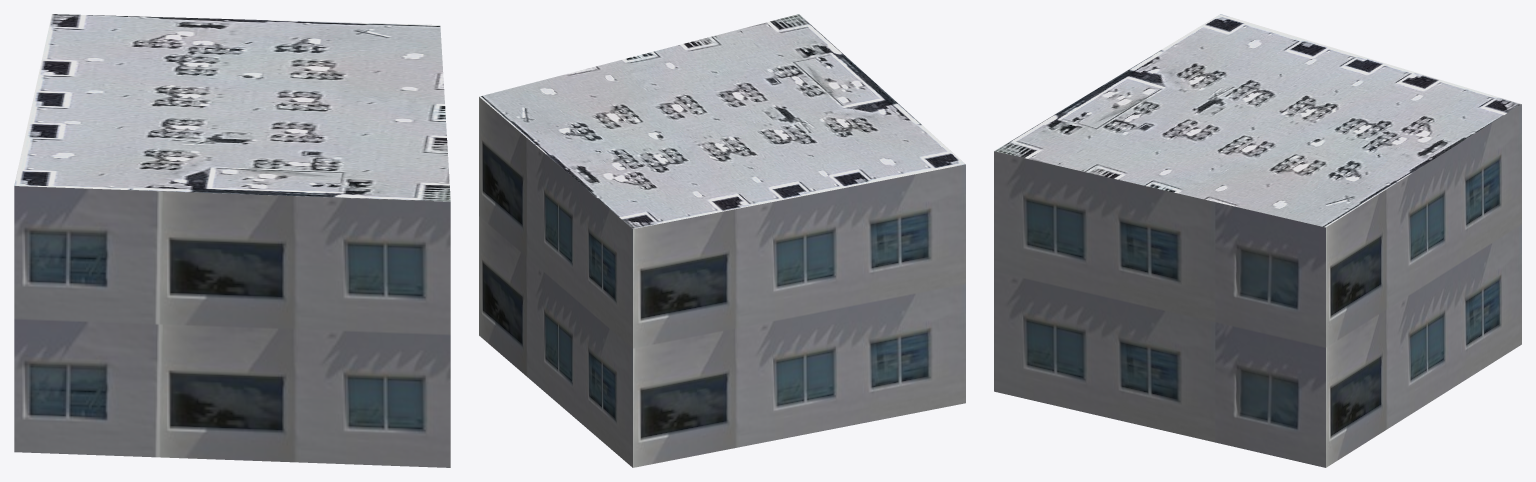
File: ResTex__4561.fbx
3 renders of one model, left to right at view 1: azimuth 30°, elevation 25°; view 2: azimuth 150°, elevation 25°; view 3: azimuth 270°, elevation 25°, orthographic. The views are drawn at different scales.
Parts seen in each view (by area): view 1: CityEngineMaterial_10_m, CityEngineMaterial_8_m; view 2: CityEngineMaterial_10_m, CityEngineMaterial_8_m; view 3: CityEngineMaterial_10_m, CityEngineMaterial_8_m.
Boxes of the visible parts, box(x1,y1,x2,y2) form: CityEngineMaterial_10_m: box(14, 186, 450, 467); CityEngineMaterial_8_m: box(14, 14, 450, 201); CityEngineMaterial_10_m: box(479, 97, 965, 467); CityEngineMaterial_8_m: box(479, 14, 965, 228); CityEngineMaterial_10_m: box(994, 104, 1521, 467); CityEngineMaterial_8_m: box(994, 14, 1521, 227).
Bounding box in the file's own units: 11.43 × 6 × 11.93.
2 materials, 2 textured.
